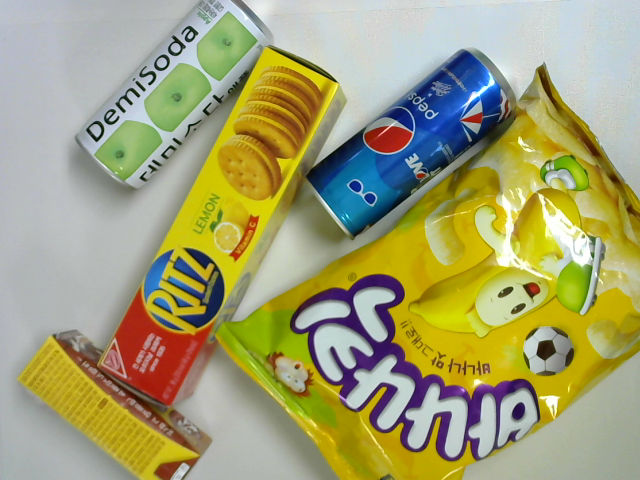Banana_Kick: (212, 62, 640, 480)
Choco_E_Mong: (14, 326, 215, 480)
Demisoda_Apple_Can_250ml: (72, 1, 274, 195)
Pepsi_Cola_Can_250ml: (300, 46, 517, 241)
Ritz_Remon_96g: (96, 43, 347, 410)
